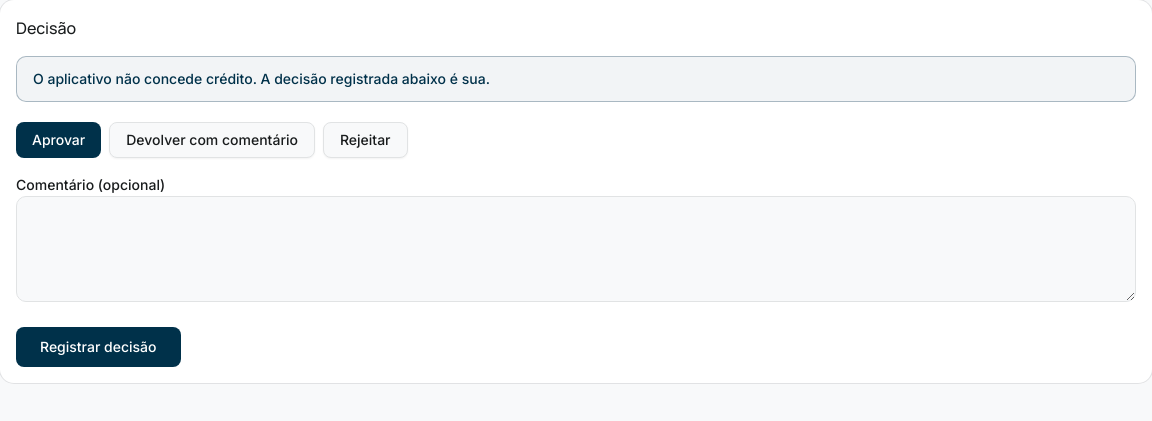
Test case: tela de decisão (§6.4) › não avança sem comentário em devolver
Click the button "Devolver com comentário" at point(212, 140), box [109,122,315,158]
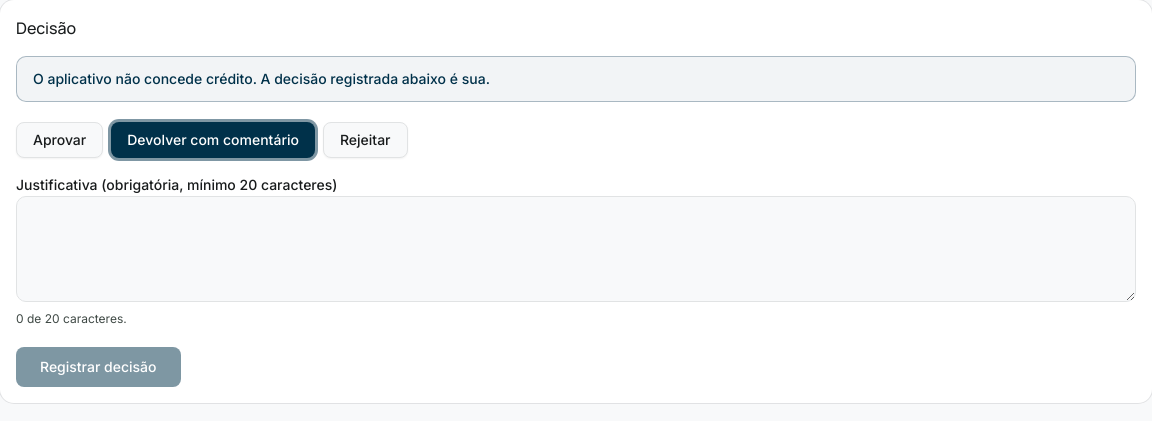
Now the button "Registrar decisão" is disabled, box [16,347,180,387]
Type "curto demais" into the text box labelled "Justificativa (obrigatória, mínimo 20 caracteres)" at point(576, 249), box [16,196,1136,302]
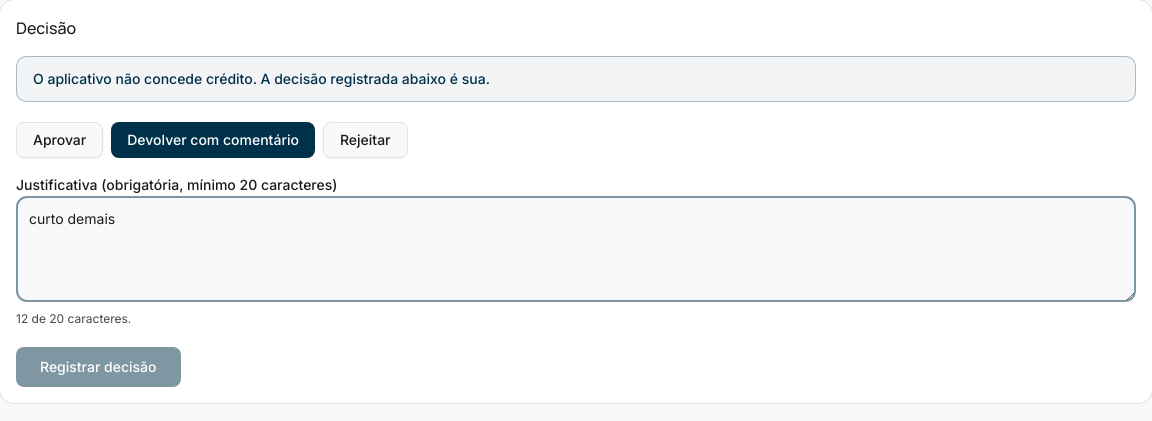
Now the button "Registrar decisão" is disabled, box [16,347,180,387]
Type " para os vinte caracteres" into the text box labelled "Justificativa (obrigatória, mínimo 20 caracteres)" at point(576, 249), box [16,196,1136,302]
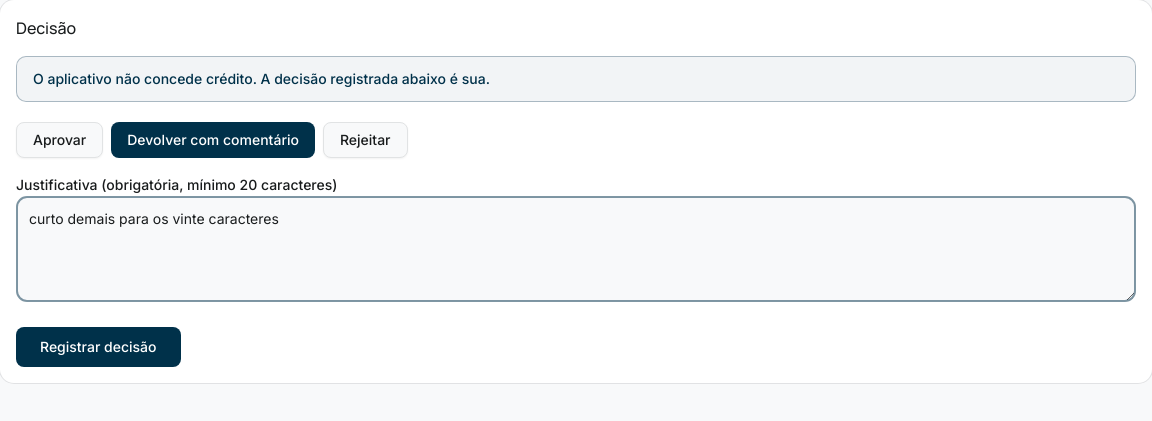
Now the button "Registrar decisão" is enabled, box [16,327,180,367]
